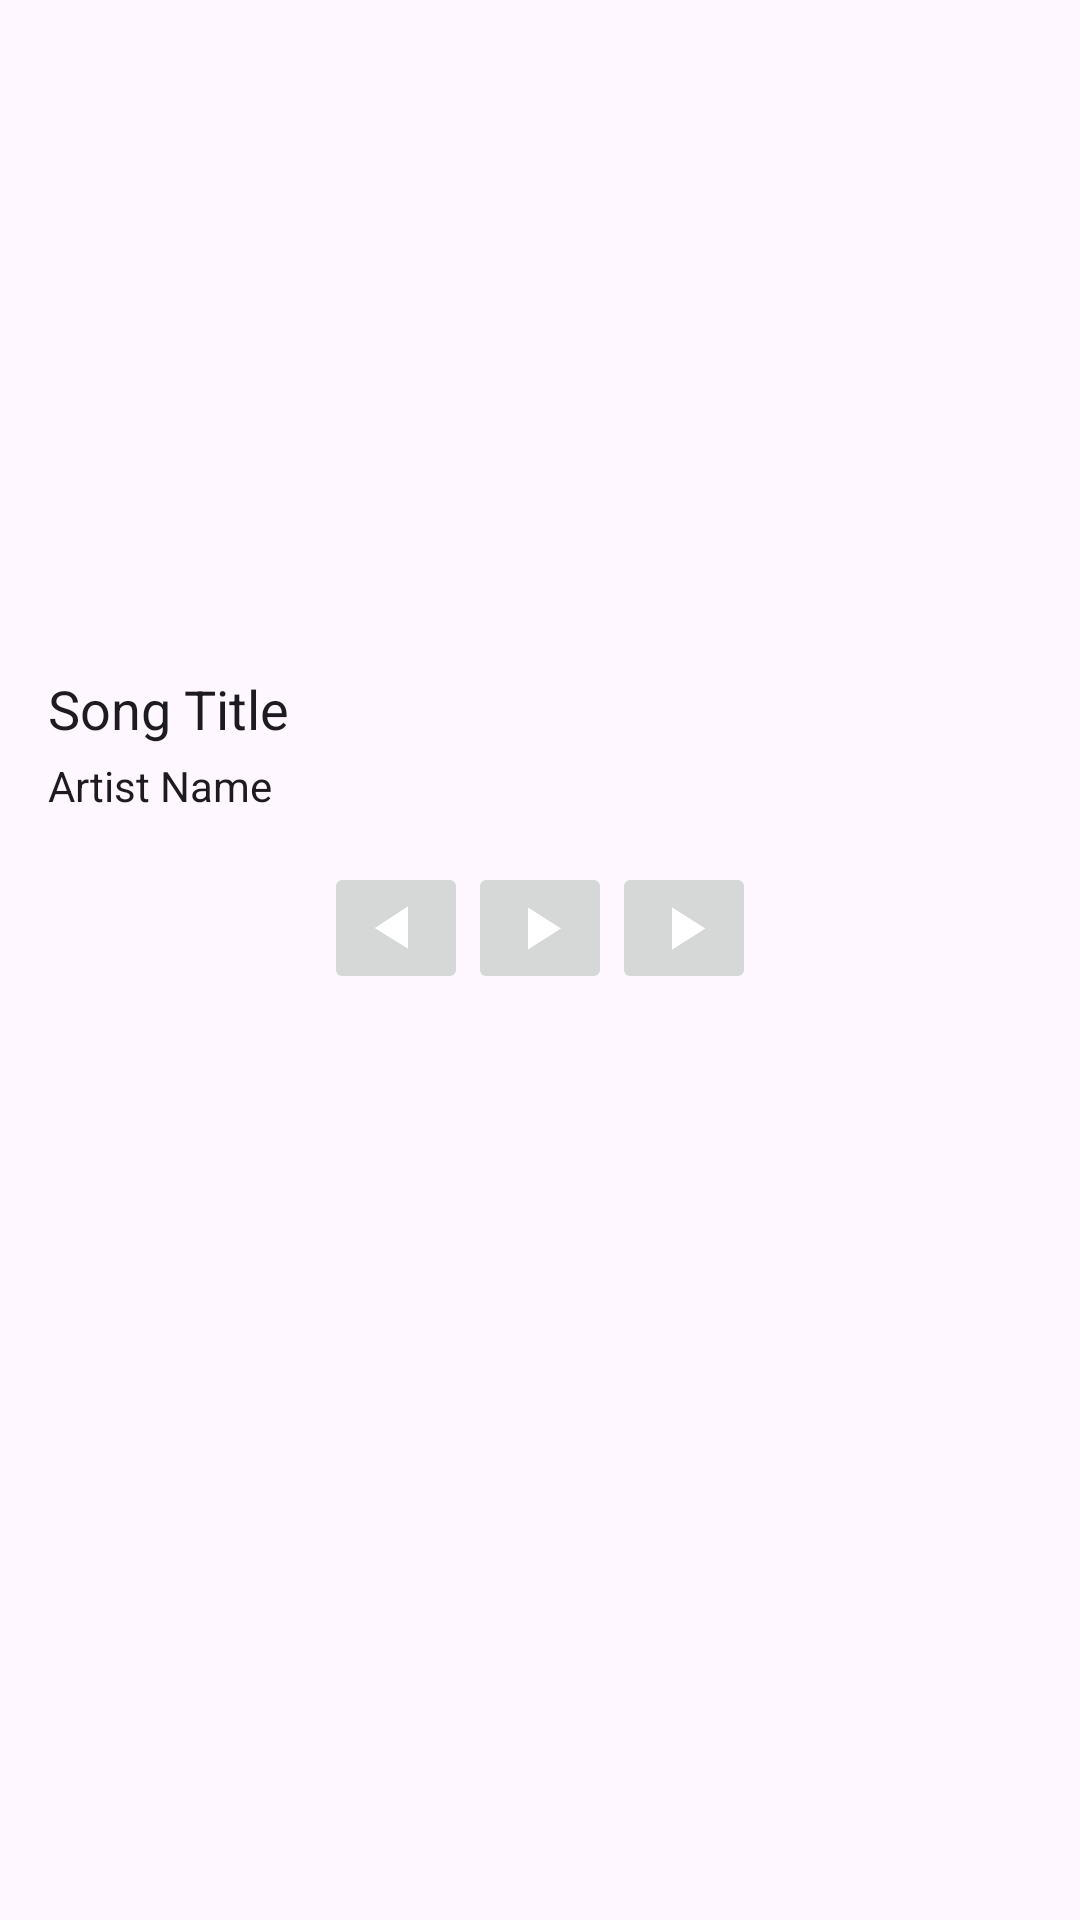

Screen size 1080px x 1920px. Icon name, then its center in pixels as (x,y):
next-song: (684,928)
play-pause-song: (540,928)
previous-song: (396,928)
